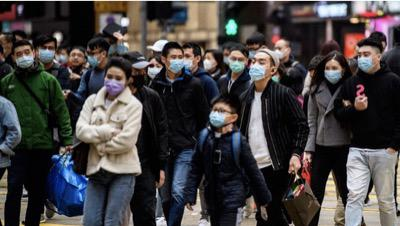with_mask: (103, 71, 125, 96), (248, 56, 271, 79), (208, 104, 230, 128), (356, 50, 376, 71), (14, 47, 34, 68), (323, 63, 341, 83), (167, 52, 184, 73), (131, 68, 148, 89), (38, 43, 56, 62), (229, 54, 246, 74), (147, 61, 162, 79), (86, 49, 100, 66), (245, 45, 260, 60), (272, 45, 287, 59), (183, 50, 194, 69), (202, 55, 214, 69)
without_mask: (68, 52, 85, 65)
